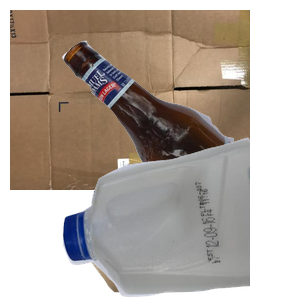cardboard: (10, 10, 250, 190)
glass: (60, 38, 300, 218)
plastic: (60, 135, 300, 300)
trash: (76, 170, 300, 300)
